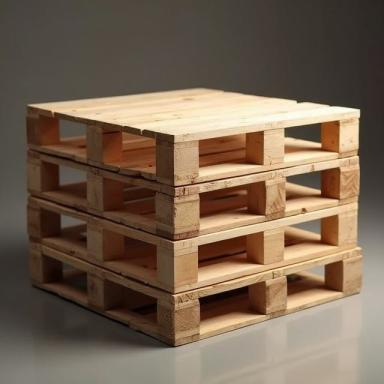pallet: (29, 242, 362, 347), (26, 87, 360, 187), (26, 196, 358, 294), (27, 150, 360, 240), (104, 182, 156, 217), (199, 185, 248, 216), (198, 235, 247, 264), (118, 286, 157, 321), (285, 171, 321, 207), (121, 236, 157, 266), (284, 219, 321, 247), (198, 286, 248, 306), (61, 261, 87, 292), (59, 166, 86, 185)
